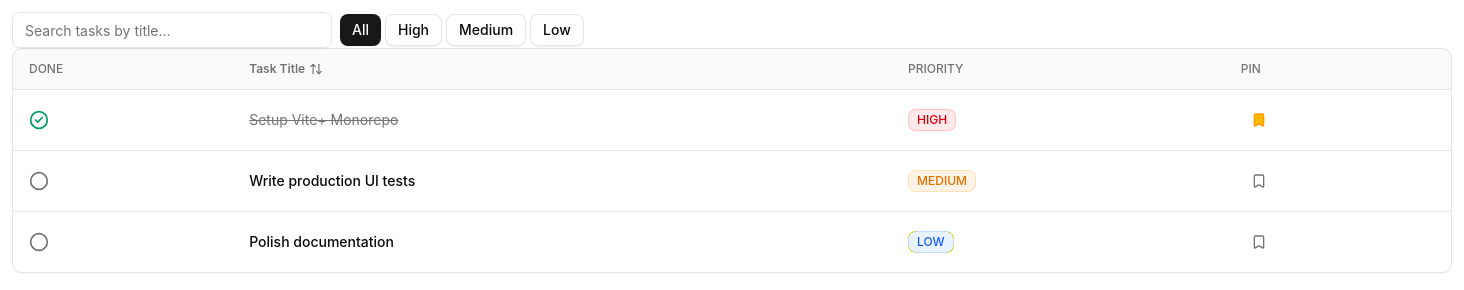
Scenario: TasksTable + TaskFiltersBar (Zustand + TanStack Table) › renders tasks and filters them via Zustand search and priority controls
The image size is (1464, 290).
Expected: the text "Setup Vite+ Monorepo" is shown, [249,111,398,128]
Expected: the text "Write production UI tests" is shown, [249,172,415,189]
Click the button "high". click: (414, 30)
box: [385,14,442,46]
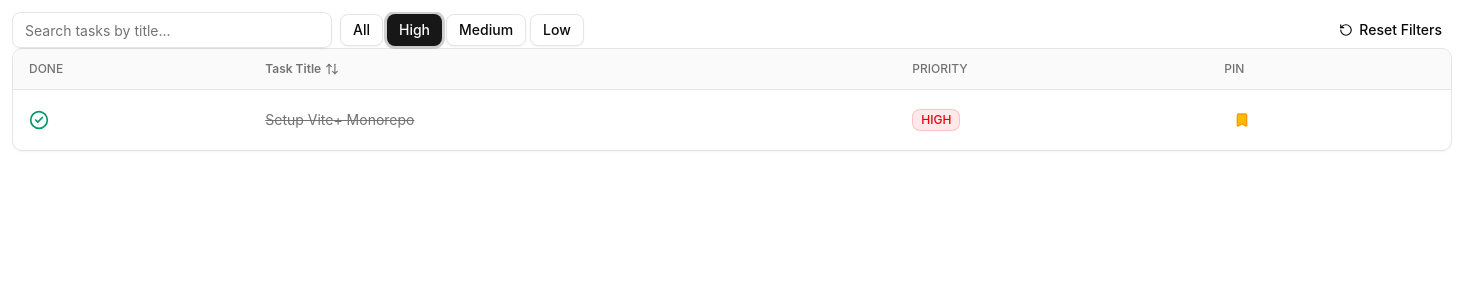
Expected: the text "Setup Vite+ Monorepo" is shown, [265,111,414,128]
Expected: the text "Write production UI tests" is gone
Note: Reset filters
Click the button "Reset Filters". click: (1391, 30)
box: [1329,14,1452,46]
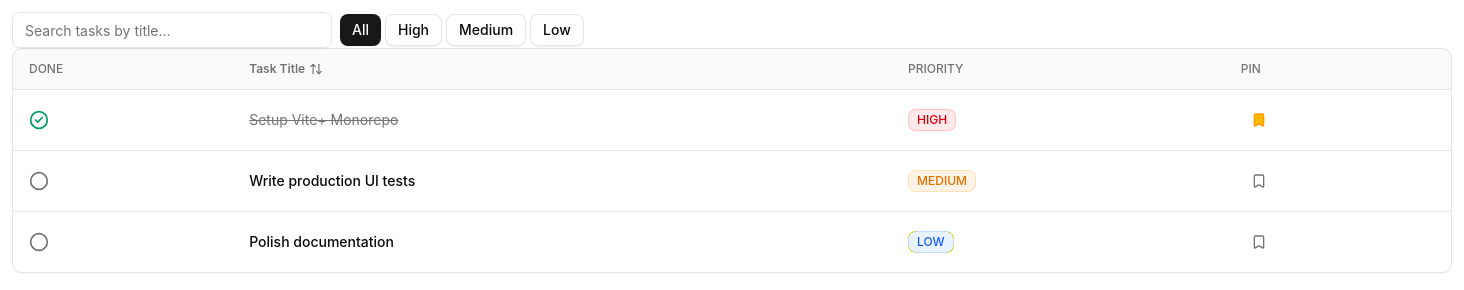
Expected: the text "Write production UI tests" is shown, [249,172,415,189]
Note: Filter by search input
Type "documentation" into the search field labelled "Search tasks". click: (172, 30)
box: [12,12,332,48]
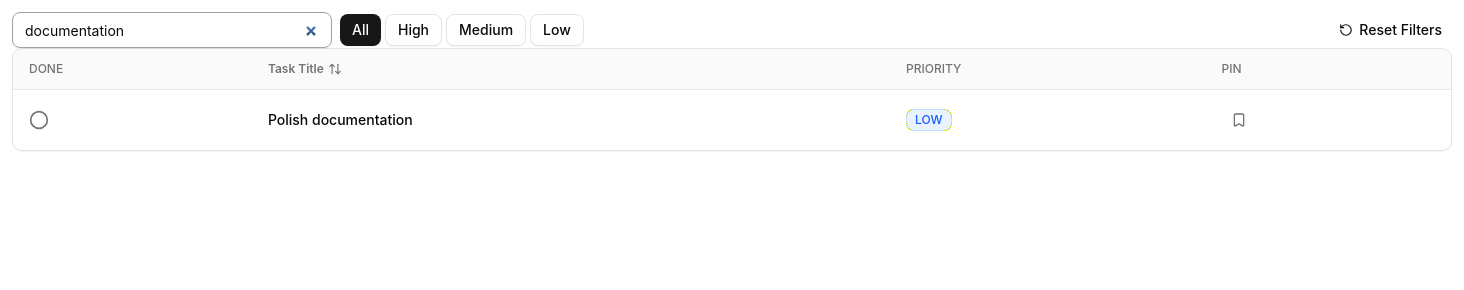
Expected: the text "Polish documentation" is shown, [268,111,413,128]
Expected: the text "Setup Vite+ Monorepo" is gone
